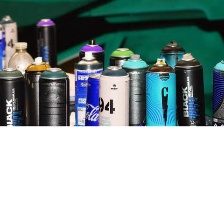aerosol_cans: (19, 53, 56, 150), (119, 49, 153, 152), (142, 55, 180, 147), (155, 35, 191, 132), (35, 65, 70, 160), (172, 50, 208, 141), (72, 49, 105, 147), (106, 41, 140, 128), (75, 35, 107, 124), (0, 64, 28, 161), (97, 62, 130, 142), (31, 14, 60, 81), (0, 10, 20, 80), (208, 55, 224, 140)
bottle: (6, 38, 35, 123)
can: (82, 70, 111, 140)
